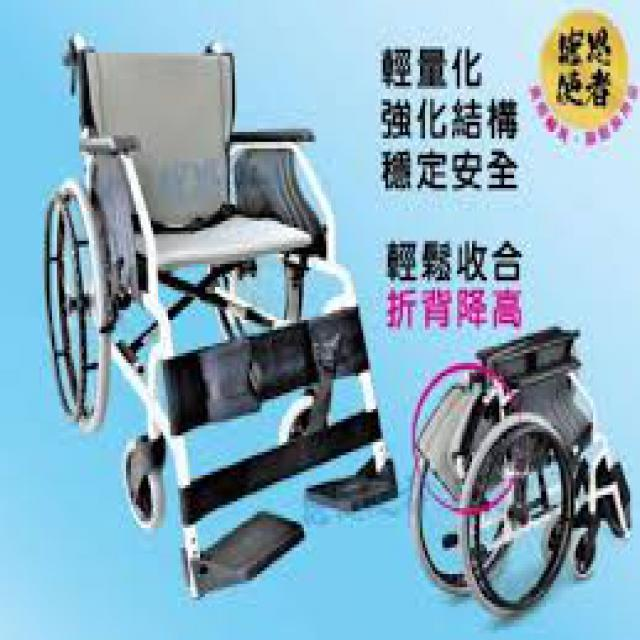wheelchair: (34, 23, 406, 594)
